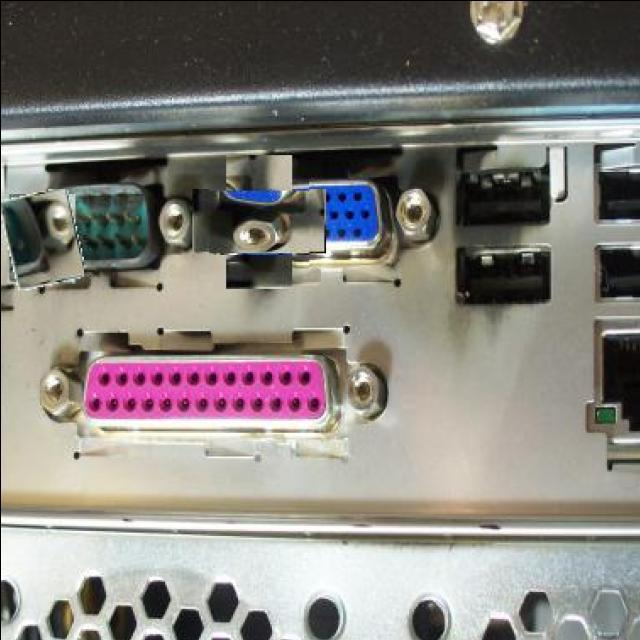Burn: (208, 168, 310, 270), (2, 188, 82, 286)
